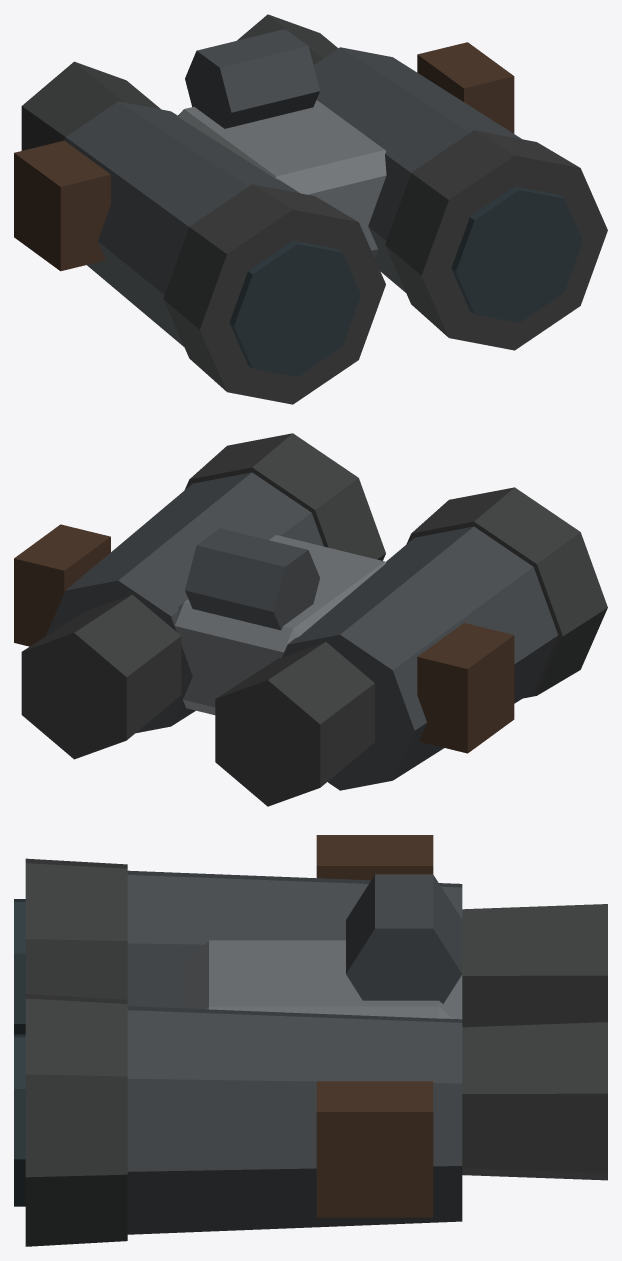
Rendered from item_binoculars.glb.
3 renders of one model, top to bottom at view 1: azimuth 30°, elevation 25°; view 2: azimuth 150°, elevation 25°; view 3: azimuth 270°, elevation 25°, orthographic. The views are drawn at different scales.
Visible parts, largest first — view 1: binoculars; view 2: binoculars; view 3: binoculars.
Boxes of the visible parts, x1=… form: binoculars: x1=14, y1=14, x2=607, y2=404; binoculars: x1=14, y1=433, x2=607, y2=806; binoculars: x1=14, y1=835, x2=607, y2=1246.
Size of the model in its own units: 0.225 by 0.1035 by 0.204.
